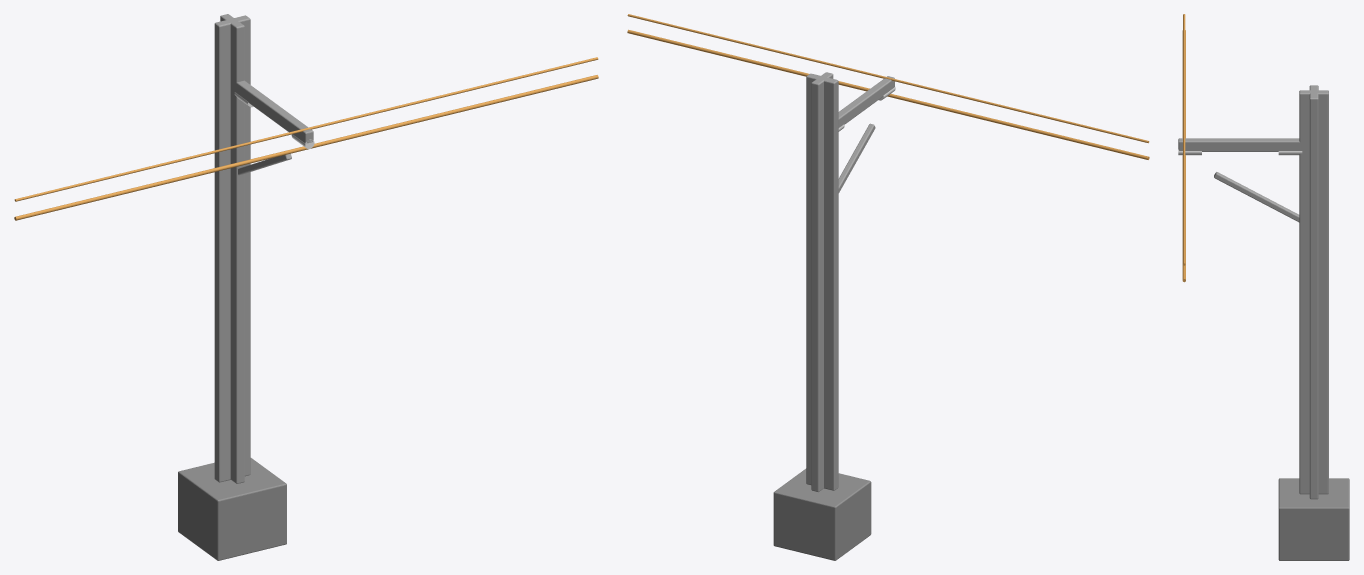
The model's file is Catenary Pole.fbx.
3 renders of one model, left to right at view 1: azimuth 30°, elevation 25°; view 2: azimuth 150°, elevation 25°; view 3: azimuth 270°, elevation 25°, orthographic. The views are drawn at different scales.
Parts seen in each view (by area): view 1: Concrete_Foundation, Mast_Flange_Rear, Mast_Vertical_Web, Mast_Flange_Front, Contact_Wire_Segment, Messenger_Wire_Segment, Cantilever_Arm; view 2: Concrete_Foundation, Mast_Flange_Rear, Mast_Vertical_Web, Mast_Flange_Front, Contact_Wire_Segment, Messenger_Wire_Segment, Cantilever_Arm; view 3: Mast_Vertical_Web, Concrete_Foundation, Mast_Flange_Front, Cantilever_Arm, Messenger_Wire_Segment, Support_Strut, Contact_Wire_Segment.
Part boxes in pixels (box(x1,y1,x2,y2)): Concrete_Foundation: box(178, 458, 286, 560); Mast_Flange_Rear: box(214, 19, 236, 482); Mast_Vertical_Web: box(220, 14, 244, 483); Mast_Flange_Front: box(228, 15, 250, 476); Contact_Wire_Segment: box(14, 75, 598, 220); Messenger_Wire_Segment: box(14, 57, 598, 201); Cantilever_Arm: box(230, 80, 313, 143); Concrete_Foundation: box(773, 468, 871, 560); Mast_Flange_Rear: box(820, 77, 838, 490); Mast_Vertical_Web: box(811, 72, 833, 492); Mast_Flange_Front: box(806, 73, 826, 485); Contact_Wire_Segment: box(627, 29, 1149, 159); Messenger_Wire_Segment: box(627, 14, 1149, 143); Cantilever_Arm: box(838, 76, 894, 127); Mast_Vertical_Web: box(1299, 90, 1328, 494); Concrete_Foundation: box(1278, 478, 1349, 560); Mast_Flange_Front: box(1309, 90, 1318, 499); Cantilever_Arm: box(1178, 138, 1318, 151); Messenger_Wire_Segment: box(1183, 14, 1185, 265); Support_Strut: box(1214, 172, 1299, 222); Contact_Wire_Segment: box(1182, 30, 1185, 282).
Size of the model in its own units: 1000 by 850 by 290.
